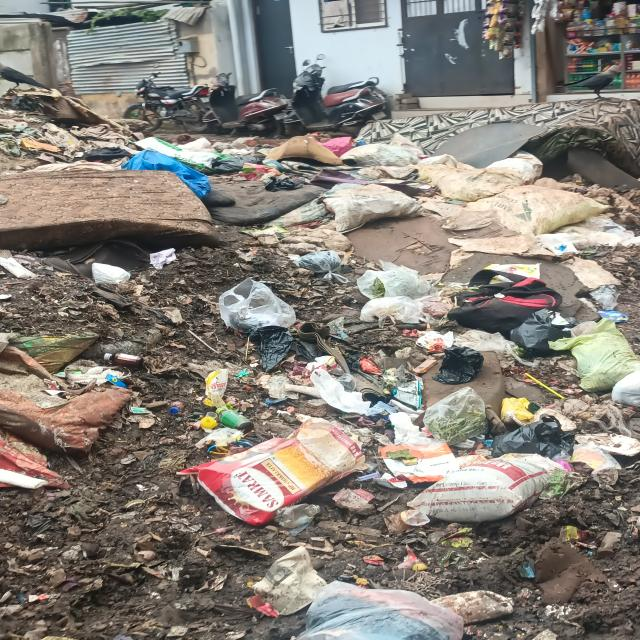garbage: (4, 126, 640, 640)
